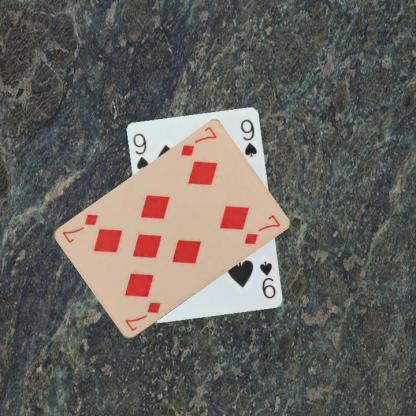7d: (122, 299, 162, 333), (178, 124, 218, 158)
9s: (130, 130, 151, 172), (257, 258, 277, 300)
